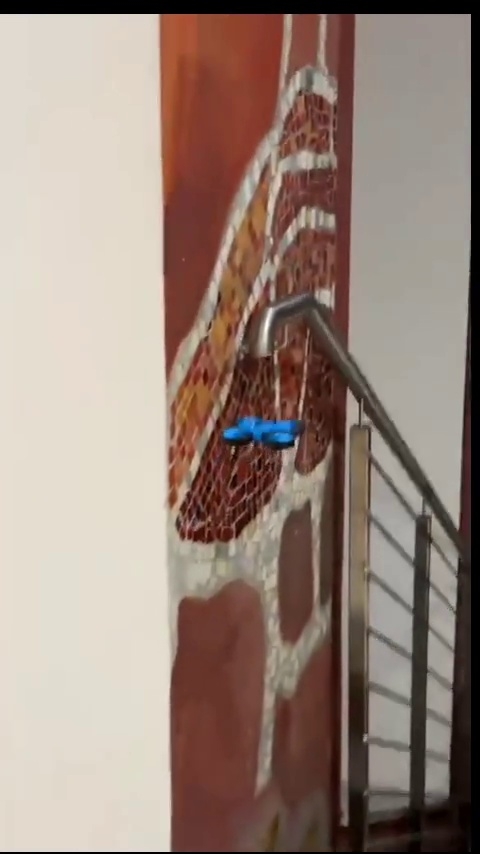drone: (228, 415, 301, 446)
